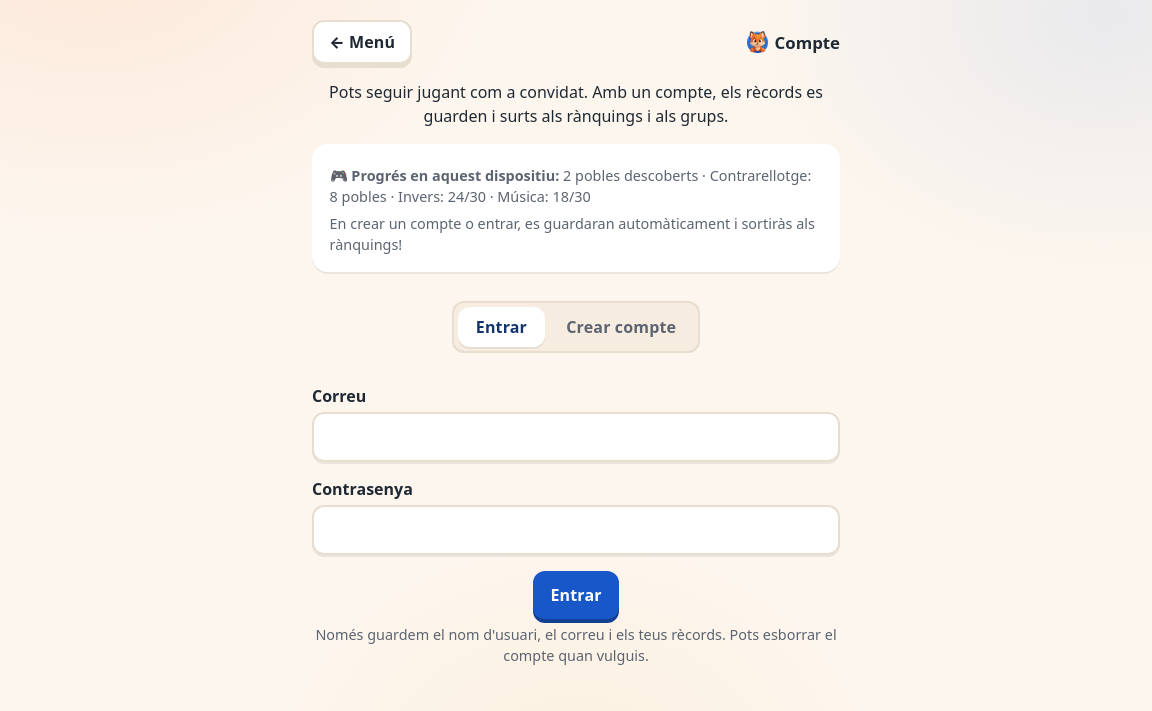
it: AccountScreen component › com a convidat (sense sessió) › mostra error si les credencials són incorrectes en iniciar sessió
The image size is (1152, 711).
Type "malament@test.cat" into the field labelled "Correu" at (576, 437), box [312,412,840,462]
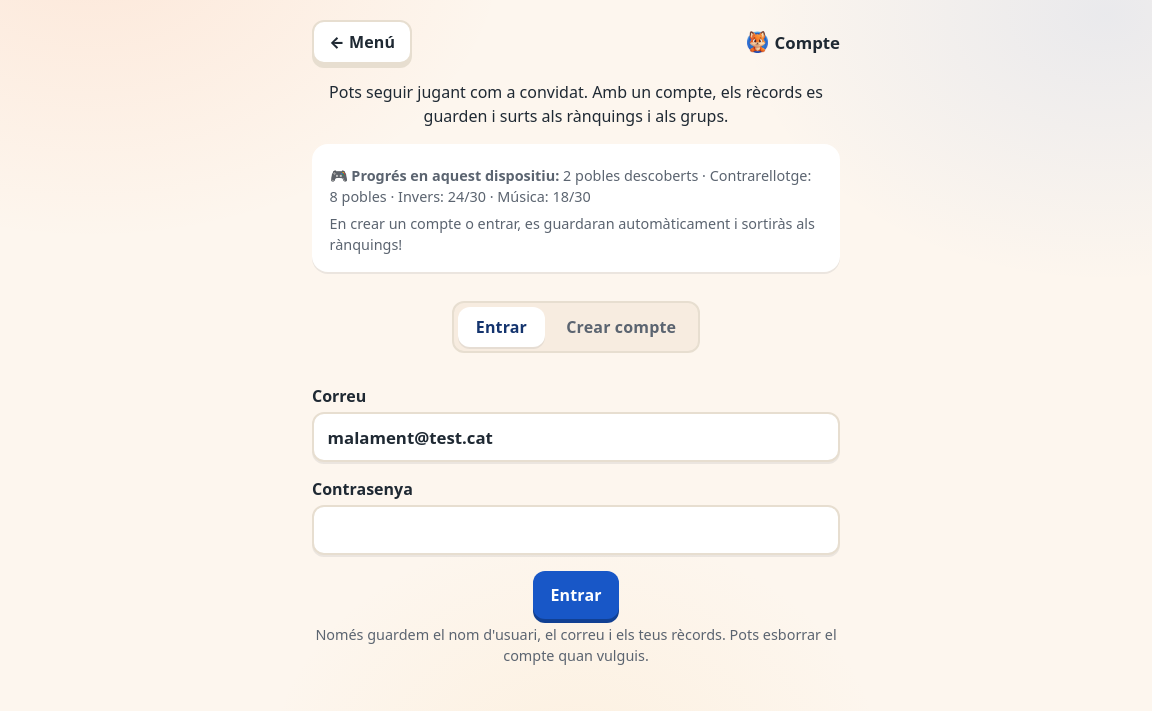
Type "wrongpass" into the password field labelled "Contrasenya" at (576, 530), box [312,505,840,555]
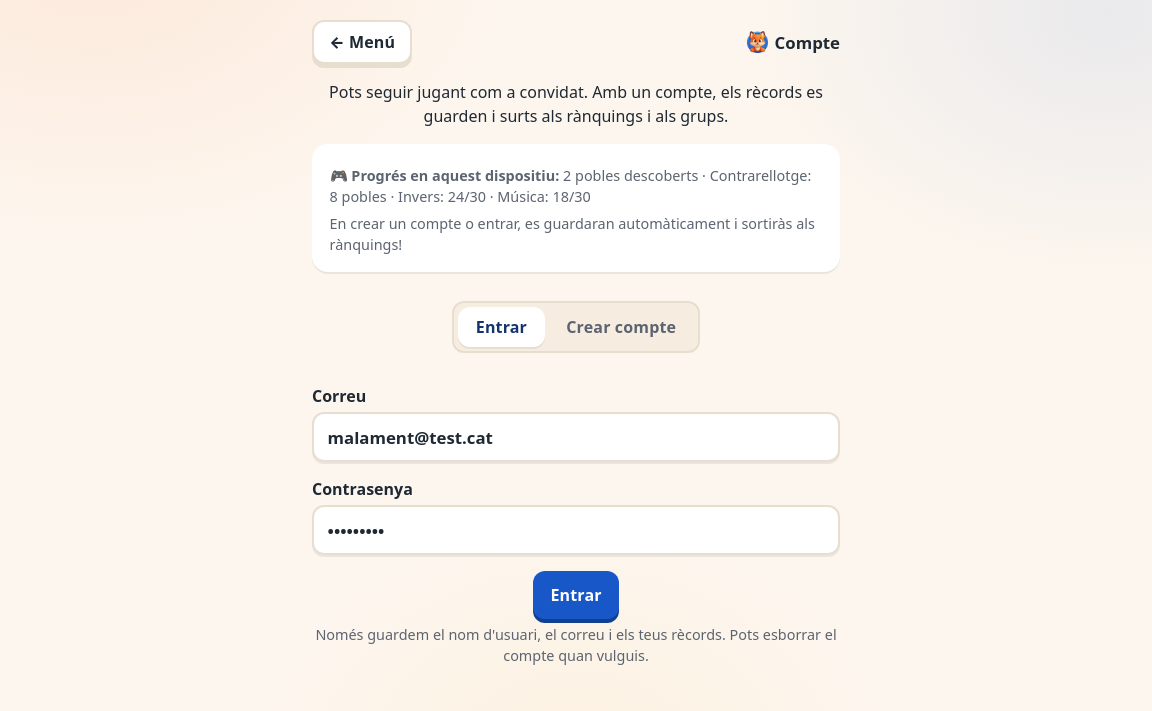
Click the button "Entrar" at (576, 595), box [533,571,619,619]
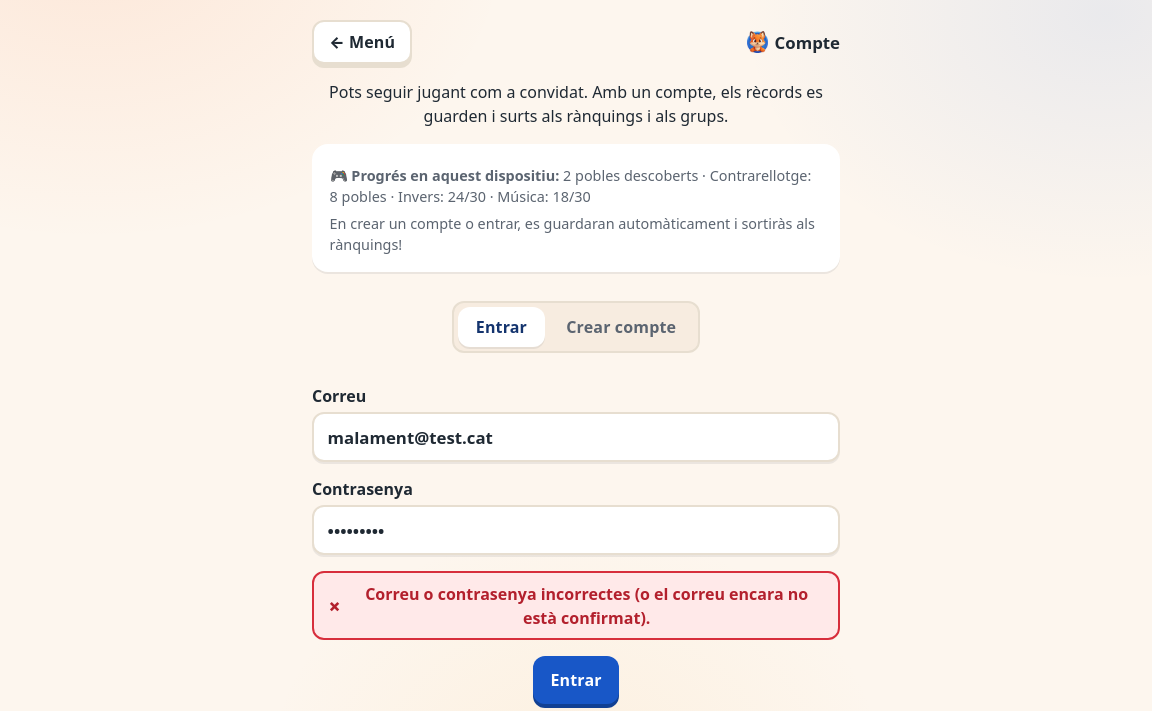
Now the message shows "Correu o contrasenya incorrectes", box [365,583,808,629]
